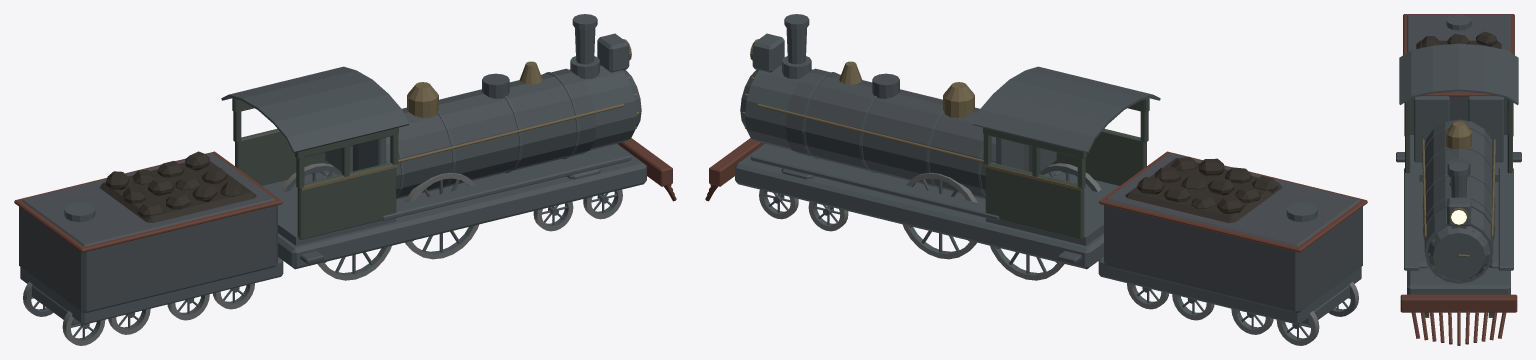
3 views of the same model, side by side, from view 1: azimuth 30°, elevation 25°; view 2: azimuth 150°, elevation 25°; view 3: azimuth 270°, elevation 25° (orthographic). The views are drawn at different scales.
Parts seen in each view (by area): view 1: No. 17 — Locomotive and tender.002; view 2: No. 17 — Locomotive and tender.002; view 3: No. 17 — Locomotive and tender.002.
Boxes of the visible parts, x1,y1,x2,y2 form: No. 17 — Locomotive and tender.002: (14,14,676,345); No. 17 — Locomotive and tender.002: (705,14,1367,345); No. 17 — Locomotive and tender.002: (1396,14,1521,345).
Size of the model in its own units: 13.06 by 3.67 by 2.79.
